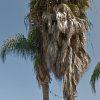Palm tree: (13, 4, 90, 92)
